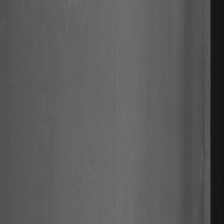silk_spot: (197, 72, 209, 204)
